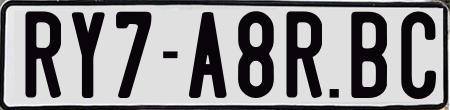7: (113, 11, 150, 102)
8: (238, 8, 280, 100)
A: (186, 11, 224, 103)
B: (349, 11, 385, 99)
C: (401, 8, 433, 102)
R: (283, 9, 325, 101), (24, 11, 62, 104)
Y: (72, 12, 109, 100)
